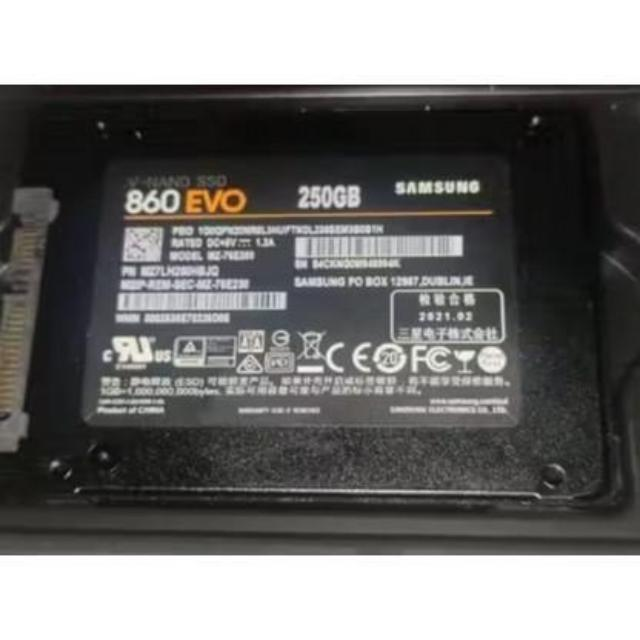DISK: (0, 116, 629, 521)
